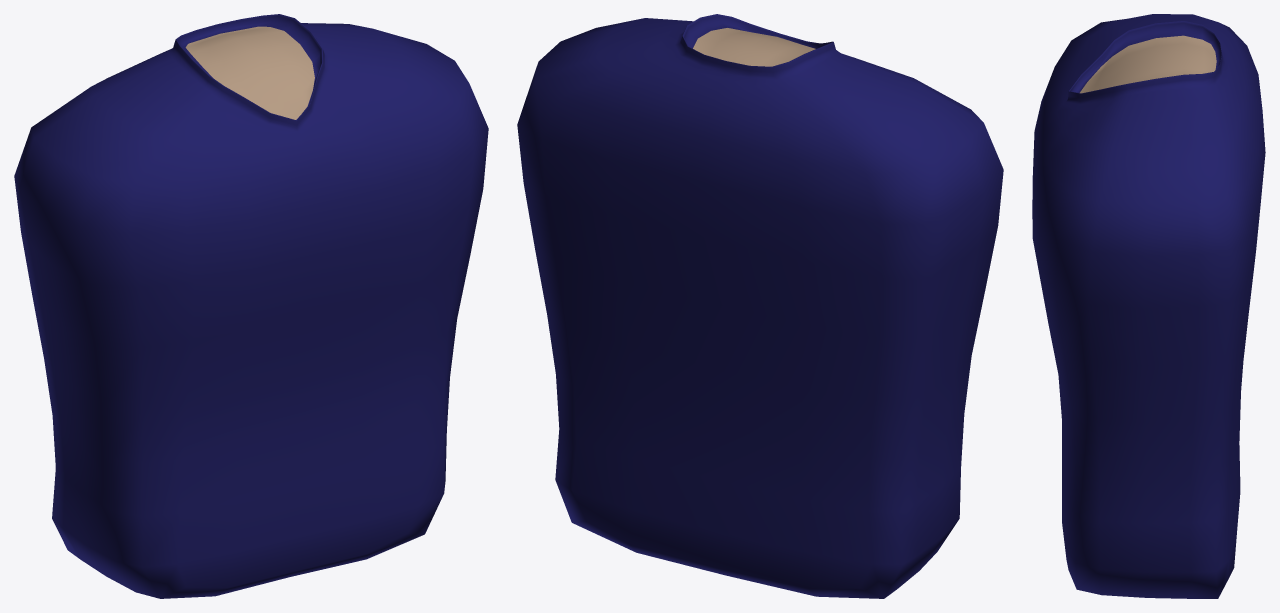
Rendered from avatar.glb.
3 views of the same model, side by side, from view 1: azimuth 30°, elevation 25°; view 2: azimuth 150°, elevation 25°; view 3: azimuth 270°, elevation 25° (orthographic). The views are drawn at different scales.
Parts seen in each view (by area): view 1: Body; view 2: Body; view 3: Body.
Boxes of the visible parts, x1,y1,x2,y2 form: Body: (14, 14, 488, 598); Body: (517, 14, 1003, 598); Body: (1032, 14, 1265, 598).
Size of the model in its own units: 0.3865 by 0.4379 by 0.1884.
